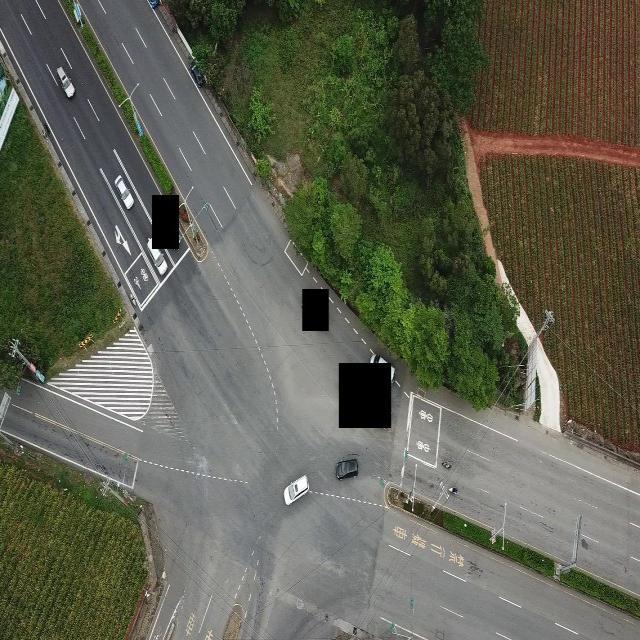bike: (440, 458, 452, 473), (448, 482, 458, 494)
car: (283, 475, 309, 507), (115, 174, 134, 210), (55, 65, 74, 100), (147, 246, 169, 276), (335, 455, 359, 480)
